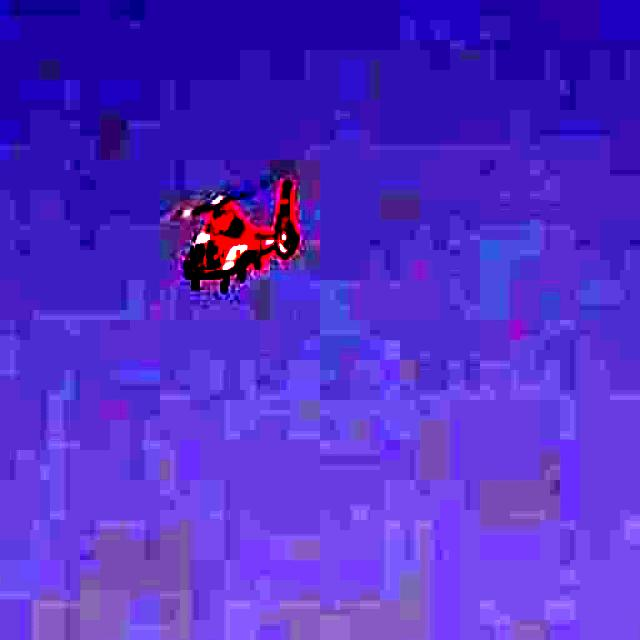drone: (128, 132, 366, 320)
